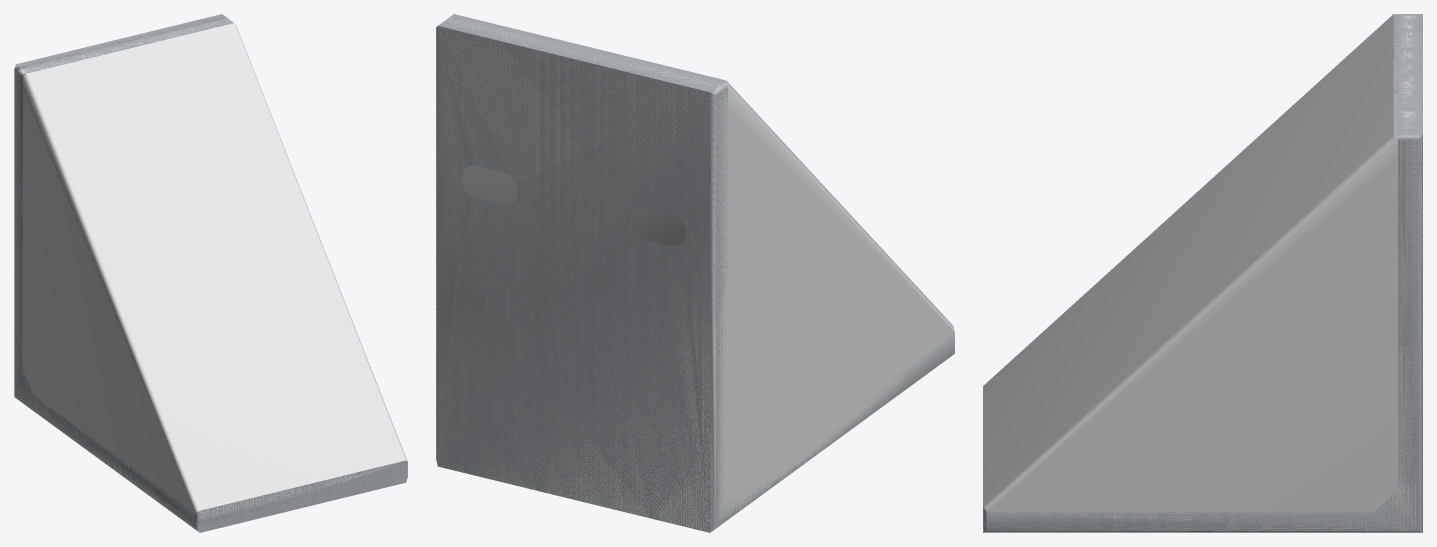
The model's file is SM_MetalBracket.glb.
3 views of the same model, side by side, from view 1: azimuth 30°, elevation 25°; view 2: azimuth 150°, elevation 25°; view 3: azimuth 270°, elevation 25° (orthographic). The views are drawn at different scales.
Visible parts, largest first — view 1: SM_MetalBracket_col, SM_MetalBracket_Mesh; view 2: SM_MetalBracket_Mesh, SM_MetalBracket_col; view 3: SM_MetalBracket_col, SM_MetalBracket_Mesh.
Part boxes in pixels (x1,y1,x2,y2): SM_MetalBracket_col: [14, 15, 407, 531]; SM_MetalBracket_Mesh: [14, 14, 407, 532]; SM_MetalBracket_Mesh: [436, 14, 954, 532]; SM_MetalBracket_col: [436, 17, 954, 532]; SM_MetalBracket_col: [983, 14, 1422, 532]; SM_MetalBracket_Mesh: [983, 14, 1422, 532].
Bounding box in the file's own units: 0.08 × 0.12 × 0.12.
1 material, 1 textured.
